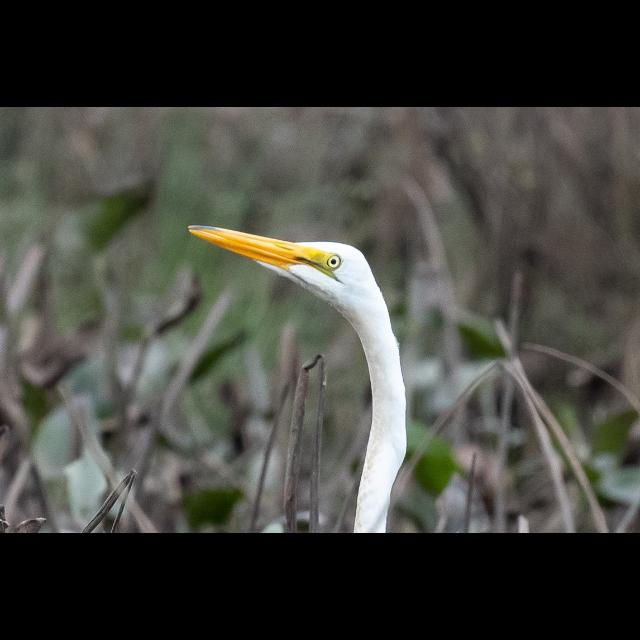egret: (180, 212, 414, 534)
